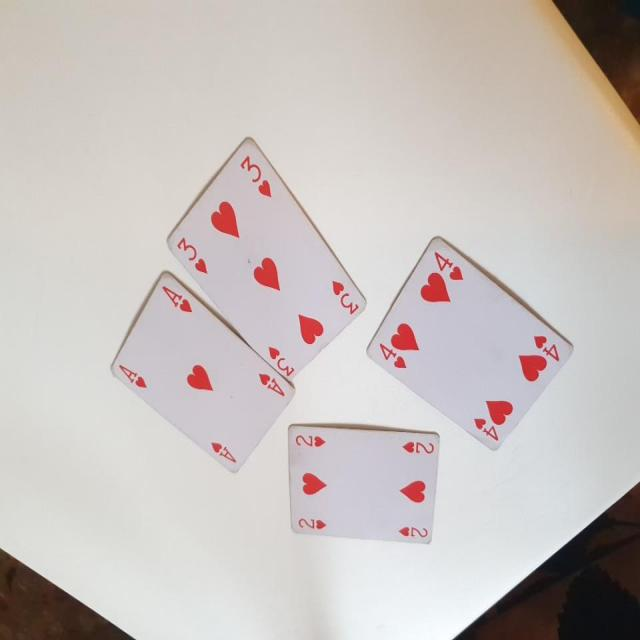2 Hearts: (284, 423, 445, 560)
3 Hearts: (167, 128, 370, 381)
4 Hearts: (363, 229, 575, 458)
A Hearts: (106, 269, 303, 486)
